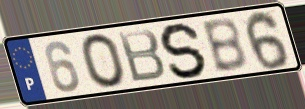6: (242, 9, 292, 72), (43, 38, 81, 94)
B: (115, 27, 168, 85), (199, 15, 250, 75)
O: (78, 31, 129, 90)
S: (158, 21, 209, 80)
